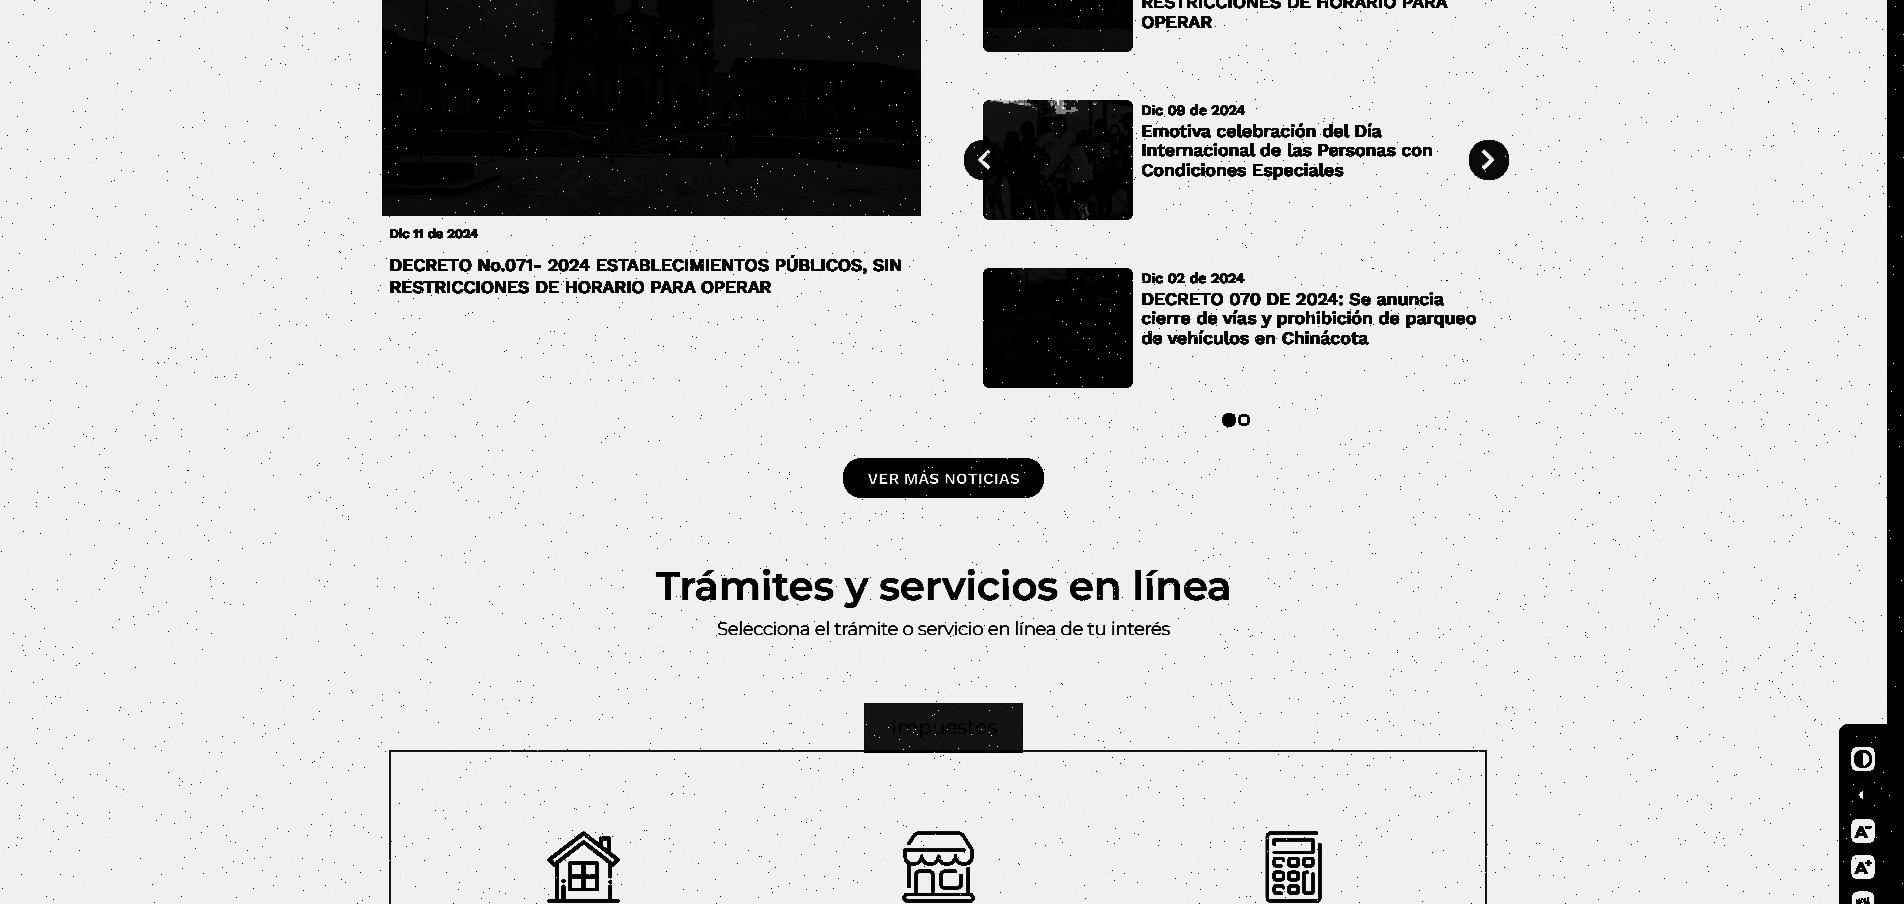barra accesibilidad: (1836, 721, 1892, 904)
btn tramites: (650, 564, 1238, 610)
